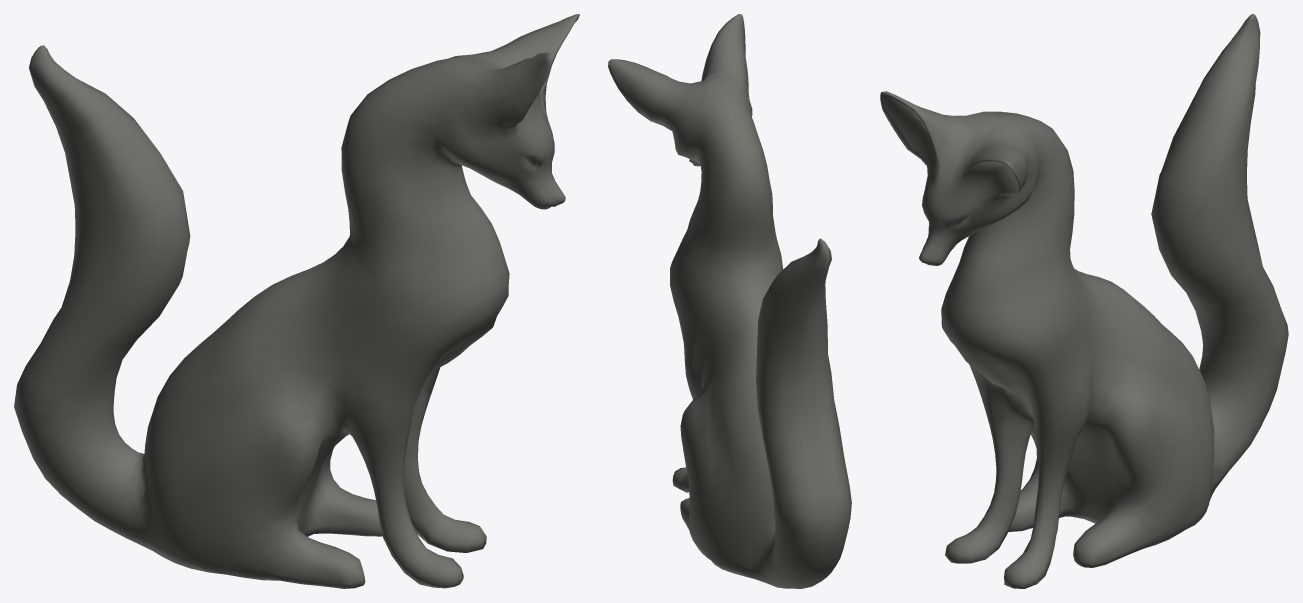
The model's file is lisa.glb.
3 views of the same model, side by side, from view 1: azimuth 30°, elevation 25°; view 2: azimuth 150°, elevation 25°; view 3: azimuth 270°, elevation 25° (orthographic). The views are drawn at different scales.
Parts seen in each view (by area): view 1: Object_3; view 2: Object_3; view 3: Object_3.
Part boxes in pixels (box(x1,y1,x2,y2)): Object_3: box(14, 14, 579, 588); Object_3: box(608, 14, 851, 588); Object_3: box(880, 14, 1288, 588).
Bounding box in the file's own units: 0.2482 × 0.2999 × 0.2239.
1 material, 1 textured.
